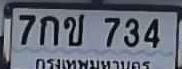3: (123, 16, 138, 46)
4: (143, 17, 158, 47)
7: (18, 14, 35, 44), (104, 16, 119, 46)
A01: (39, 15, 58, 44)
A10: (63, 12, 83, 44)
BKK: (33, 55, 155, 69)
